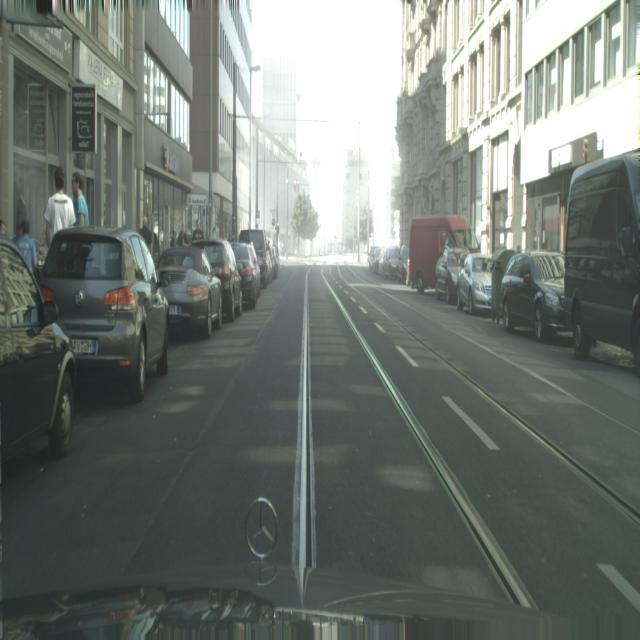motorcycle: (563, 149, 640, 377), (408, 214, 478, 295)
person: (43, 166, 76, 249), (15, 217, 38, 279), (72, 171, 89, 228), (139, 218, 152, 254), (192, 219, 203, 243), (177, 224, 186, 246)
truck: (38, 227, 170, 403), (0, 232, 77, 469), (500, 250, 571, 343), (156, 245, 222, 339), (192, 238, 243, 322), (456, 252, 493, 316), (488, 247, 518, 324), (434, 245, 471, 304), (238, 228, 273, 288), (231, 241, 261, 309), (381, 244, 400, 280), (398, 244, 409, 284), (369, 245, 381, 273)
